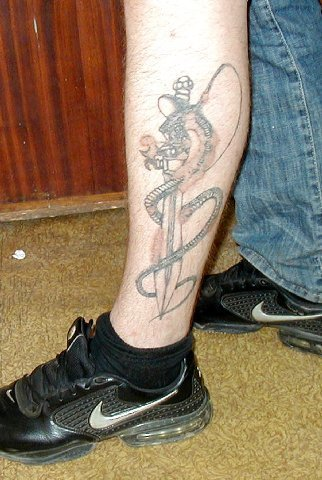tatu7_zmeya: (143, 52, 220, 314)
